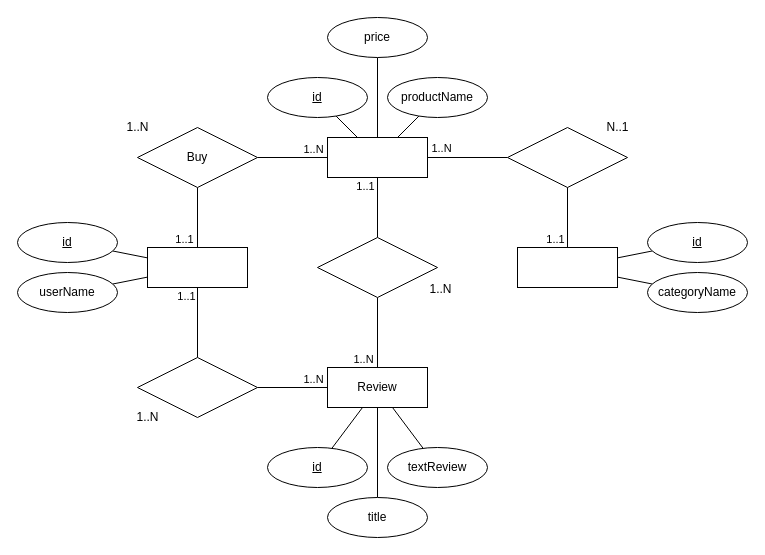
Some shapes in this 765 by 555 pixel diagram are drawn without their labels. The box of each missing label's shape, as (x1, y1, x2, y2) in pixels:
Category: (516, 246, 618, 288)
Contains: (316, 236, 438, 298)
Has: (506, 126, 628, 188)
Product: (326, 136, 428, 178)
User: (146, 246, 248, 288)
Write: (136, 356, 258, 418)
